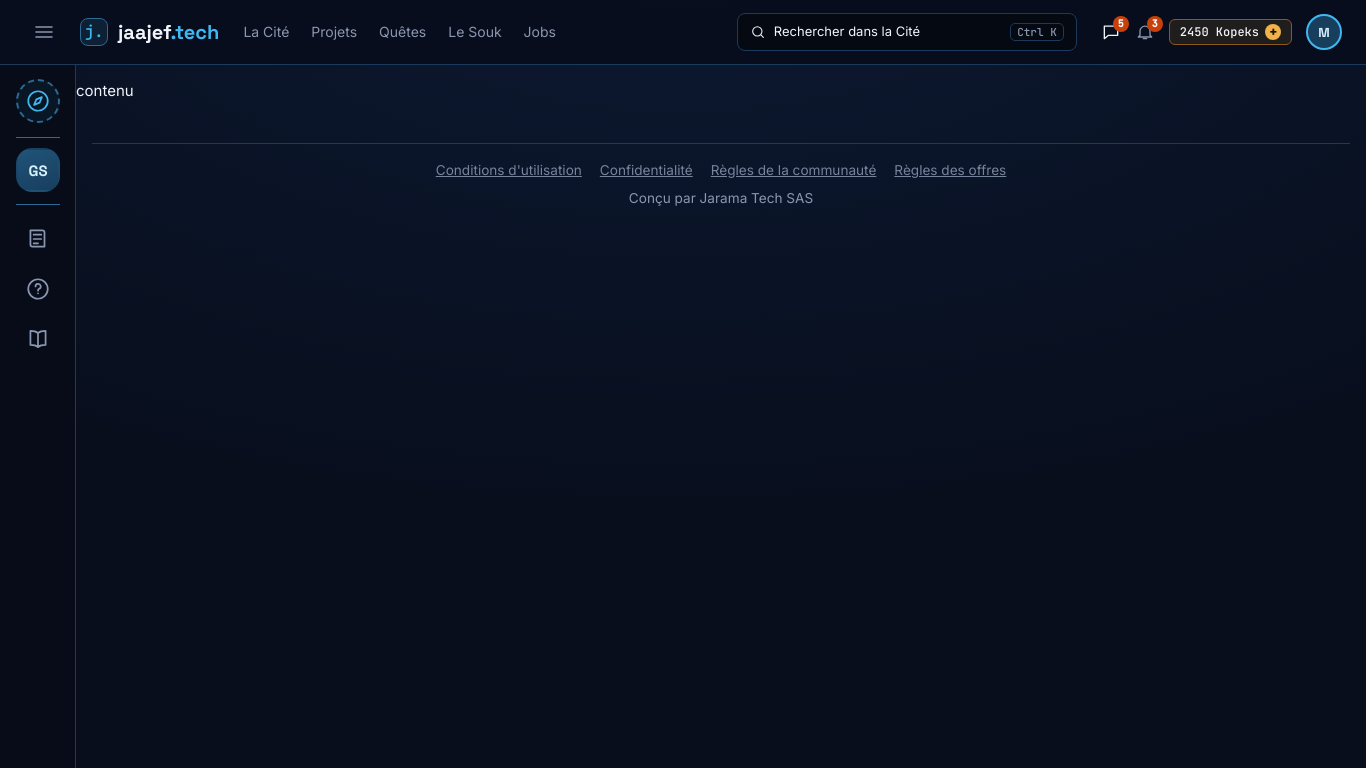
Test: AppShell › opens and closes the side bar with the 3-bar button, and remembers the choice
Click the button named "Ouvrir le menu".
click(44, 32)  # box [24, 12, 64, 52]
(page scrolled)
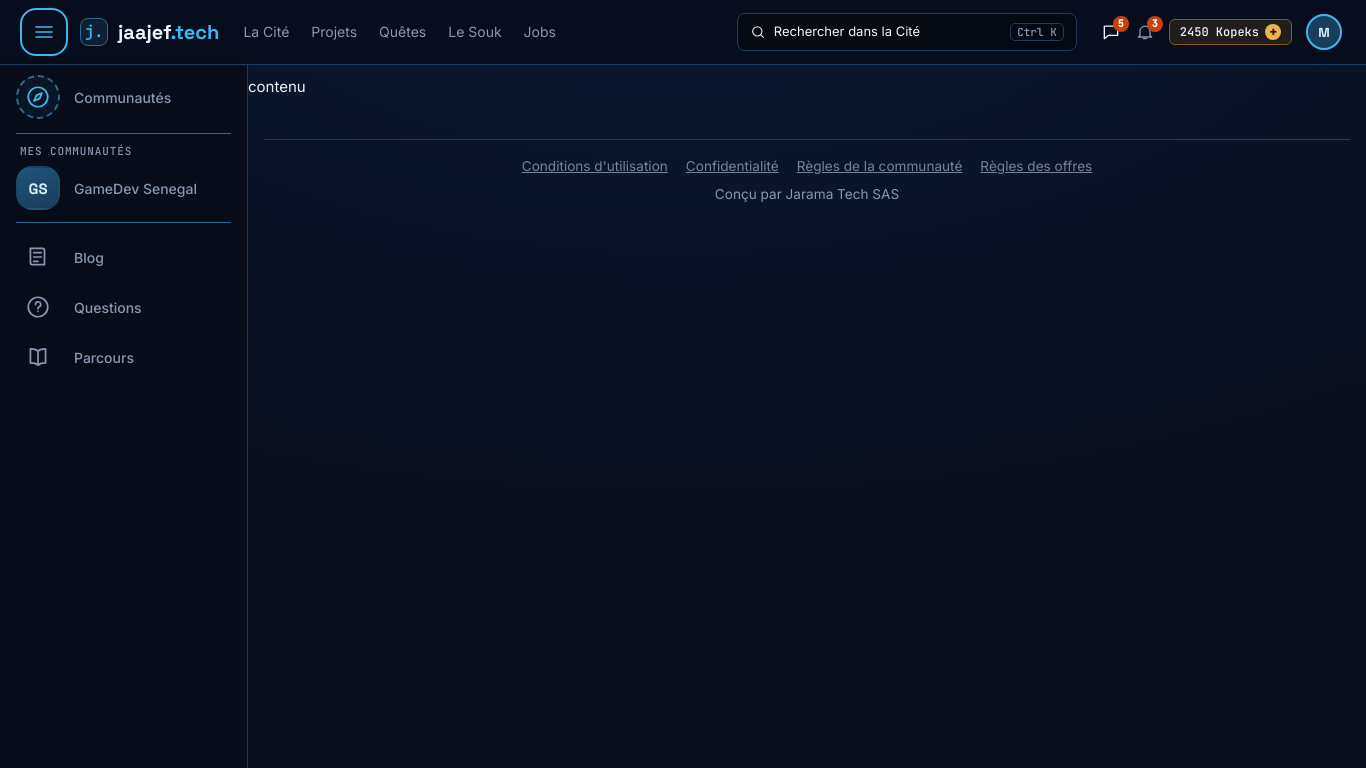
expect the button named "Réduire le menu" is expanded: met, box [24, 12, 64, 52]
